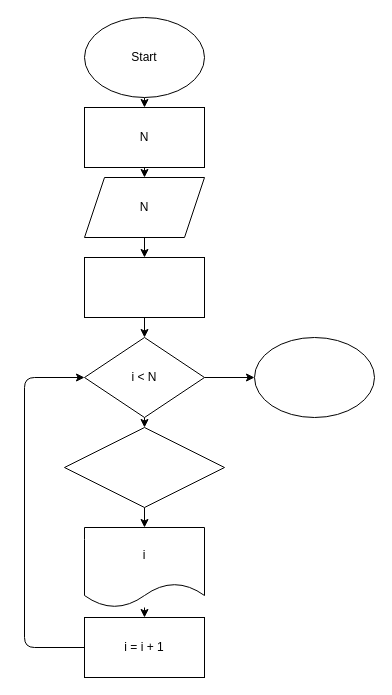
The diagram is 392 pixels wide and 695 high, and some of its shapes have lost their labels. Here are the shapes that lost their labels. From the top down, the centre of each, then its label:
At pixel 144 287: "i = 0".
At pixel 314 377: "End".
At pixel 144 467: "i % 2 = 0".
